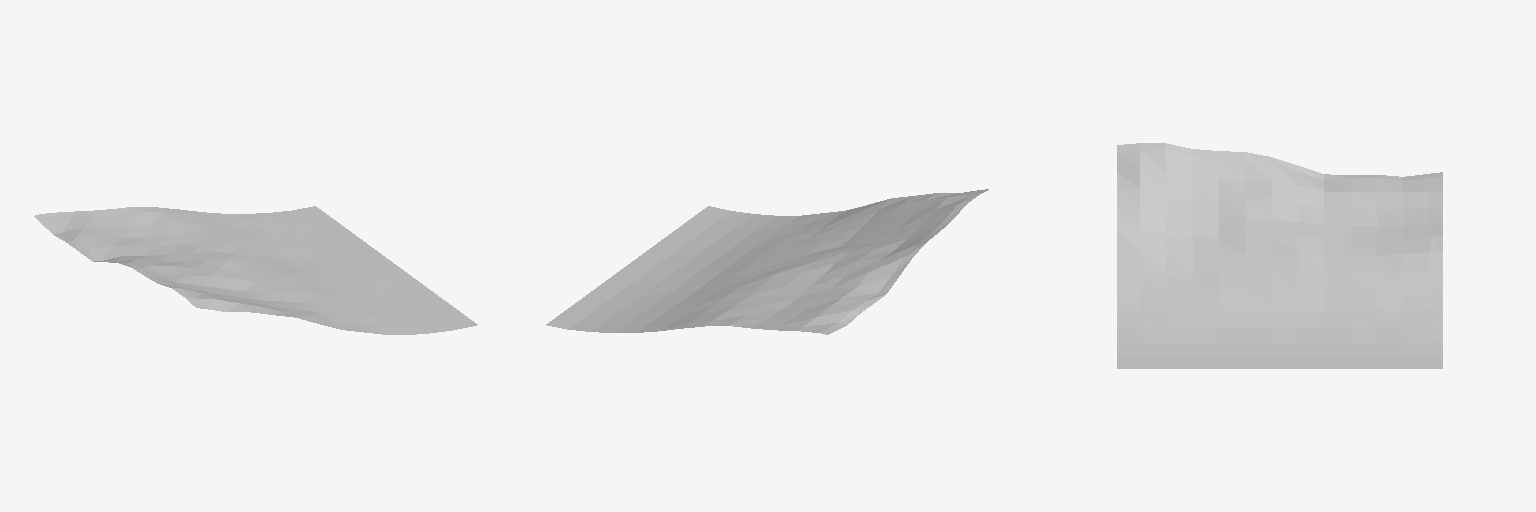
File: Landscape.068.obj
The picture shows the model from 3 angles: view 1: azimuth 30°, elevation 25°; view 2: azimuth 150°, elevation 25°; view 3: azimuth 270°, elevation 25°; orthographic projection.
Parts seen in each view (by area): view 1: Landscape.068; view 2: Landscape.068; view 3: Landscape.068.
Boxes of the visible parts, <box> form: Landscape.068: <box>34,206,477,334</box>; Landscape.068: <box>546,189,988,334</box>; Landscape.068: <box>1117,143,1442,368</box>.
Size of the model in its own units: 32 by 9.53 by 32.